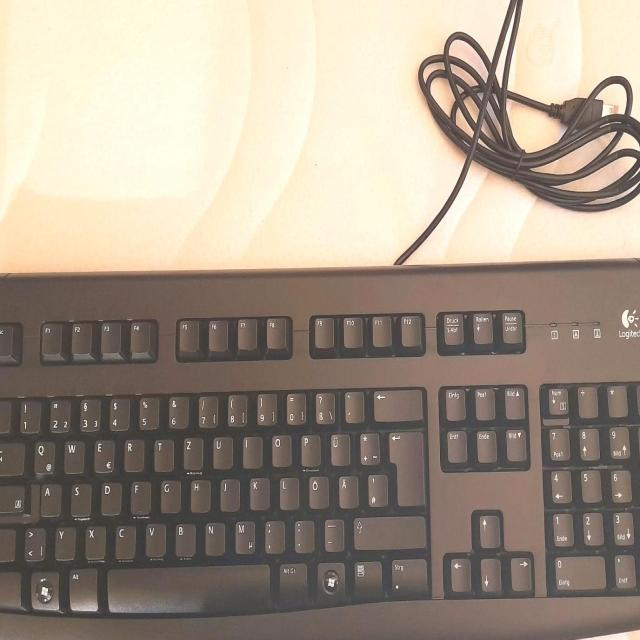0: (283, 390, 306, 425)
1: (17, 398, 40, 433)
2: (47, 396, 70, 432)
3: (77, 395, 100, 431)
4: (106, 395, 129, 430)
5: (136, 393, 159, 429)
6: (165, 393, 188, 428)
7: (195, 393, 218, 428)
8: (225, 392, 247, 427)
9: (254, 389, 276, 426)
a: (38, 480, 60, 515)
accent: (342, 388, 363, 421)
ae: (336, 472, 358, 507)
alt-left: (66, 565, 97, 610)
altgr-right: (275, 559, 308, 605)
b: (172, 520, 195, 555)
c: (112, 522, 135, 557)
caret: (0, 398, 11, 432)
comma: (262, 517, 284, 553)
d: (99, 479, 121, 514)
del: (371, 385, 422, 420)
e: (92, 436, 114, 472)
enter: (386, 427, 423, 505)
f: (129, 478, 151, 513)
g: (158, 477, 180, 511)
h: (188, 476, 209, 510)
hash: (365, 470, 387, 506)
i: (240, 432, 261, 467)
j: (218, 475, 239, 510)
k: (248, 474, 269, 508)
keyboard: (0, 252, 640, 640)
l: (277, 474, 298, 509)
less: (22, 523, 45, 560)
m: (233, 518, 255, 553)
minus: (322, 516, 343, 550)
n: (203, 519, 224, 554)
o: (269, 431, 291, 465)
oe: (306, 472, 328, 507)
p: (298, 431, 320, 465)
plus: (357, 429, 379, 464)
point: (291, 517, 314, 552)
q: (31, 438, 54, 473)
r: (122, 436, 144, 470)
s: (69, 480, 91, 515)
shift-left: (0, 526, 15, 561)
shift-lock: (0, 482, 24, 511)
shift-right: (351, 513, 425, 548)
space: (104, 561, 269, 613)
ss: (313, 389, 335, 424)
strg-left: (0, 569, 21, 606)
strg-right: (387, 555, 428, 595)
t: (152, 436, 173, 470)
tab: (0, 439, 23, 474)
u: (211, 433, 232, 467)
ue: (328, 430, 349, 465)
v: (143, 520, 165, 555)
w: (62, 437, 83, 472)
x: (83, 523, 105, 558)
y: (52, 524, 75, 559)
z: (181, 434, 202, 468)
